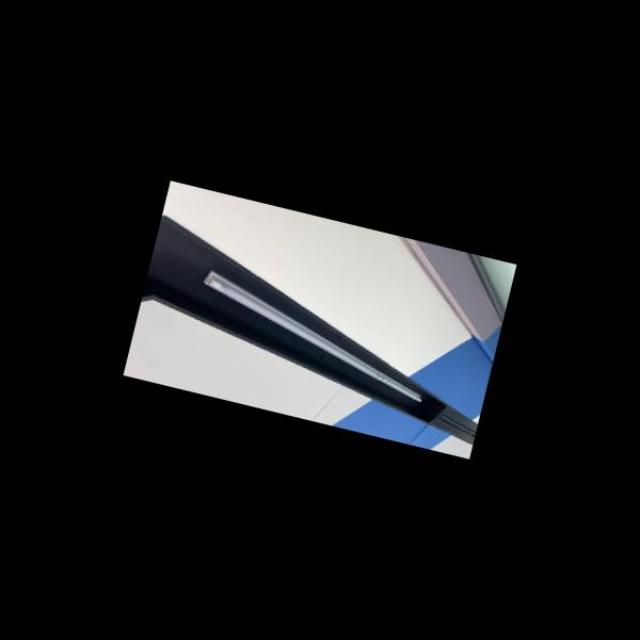Straight-Tube-Fluorescent-Lamp: (180, 252, 448, 410)
